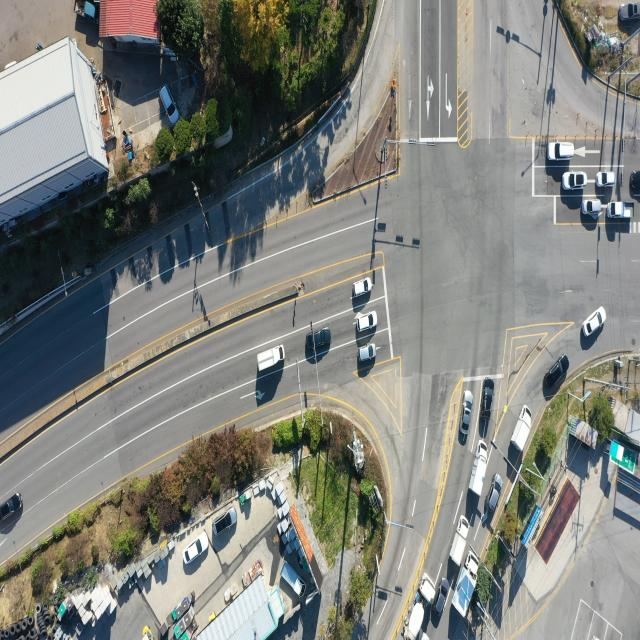car: (544, 354, 570, 397), (184, 534, 210, 568), (583, 307, 606, 338), (159, 85, 178, 122), (303, 329, 330, 355), (214, 508, 237, 538), (487, 475, 504, 515), (0, 493, 23, 522), (460, 391, 473, 440), (548, 140, 574, 162), (483, 375, 496, 414), (562, 171, 587, 191), (356, 311, 378, 333), (436, 582, 450, 615), (619, 2, 640, 24), (352, 276, 372, 298), (356, 344, 376, 363), (584, 200, 603, 217), (596, 172, 616, 188), (629, 171, 640, 192), (419, 632, 430, 640)
medium_truck: (404, 575, 436, 640), (452, 552, 480, 618)
small_truck: (468, 440, 490, 498), (509, 406, 532, 452), (448, 516, 468, 568), (280, 557, 306, 597), (258, 344, 287, 375), (74, 0, 95, 24), (609, 201, 634, 221)
